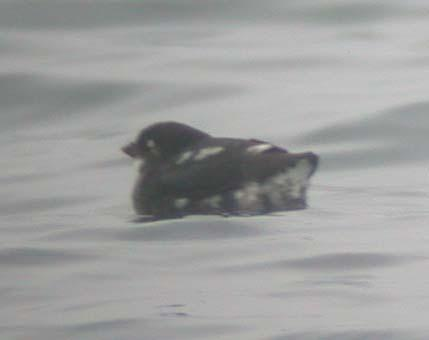006.Least_Auklet: (119, 119, 320, 220)
